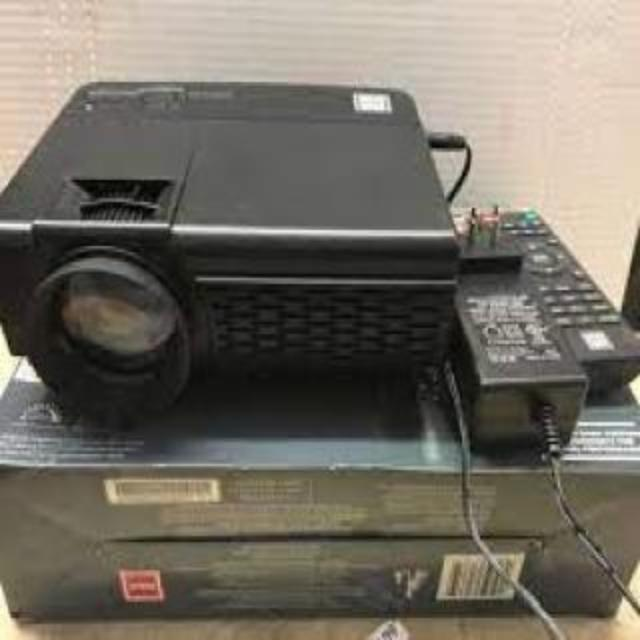Projector: (0, 76, 460, 428)
